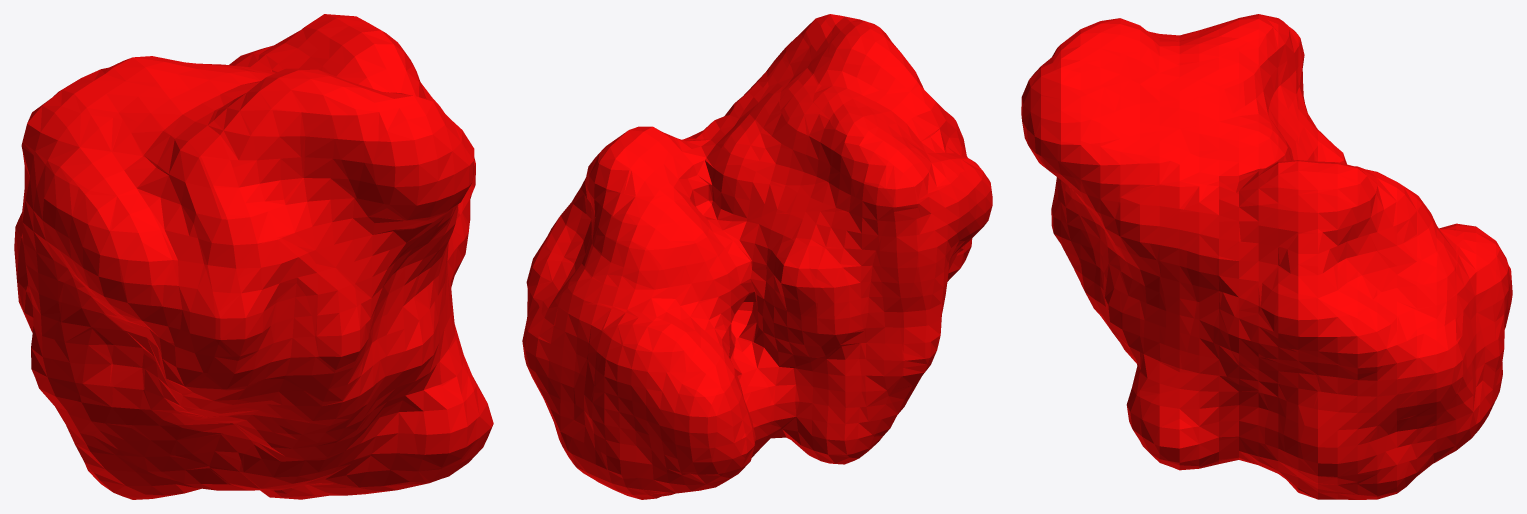
Rendered from ilvC_coarse.dae.
The picture shows the model from 3 angles, left to right: view 1: azimuth 30°, elevation 25°; view 2: azimuth 150°, elevation 25°; view 3: azimuth 270°, elevation 25°; orthographic projection. The views are drawn at different scales.
Visible parts, largest first — view 1: ilvC; view 2: ilvC; view 3: ilvC.
Boxes of the visible parts, x1,y1,x2,y2 form: ilvC: (14, 14, 493, 499); ilvC: (522, 14, 992, 499); ilvC: (1021, 14, 1512, 499).
Size of the model in its own units: 60.88 by 62.13 by 68.01.
